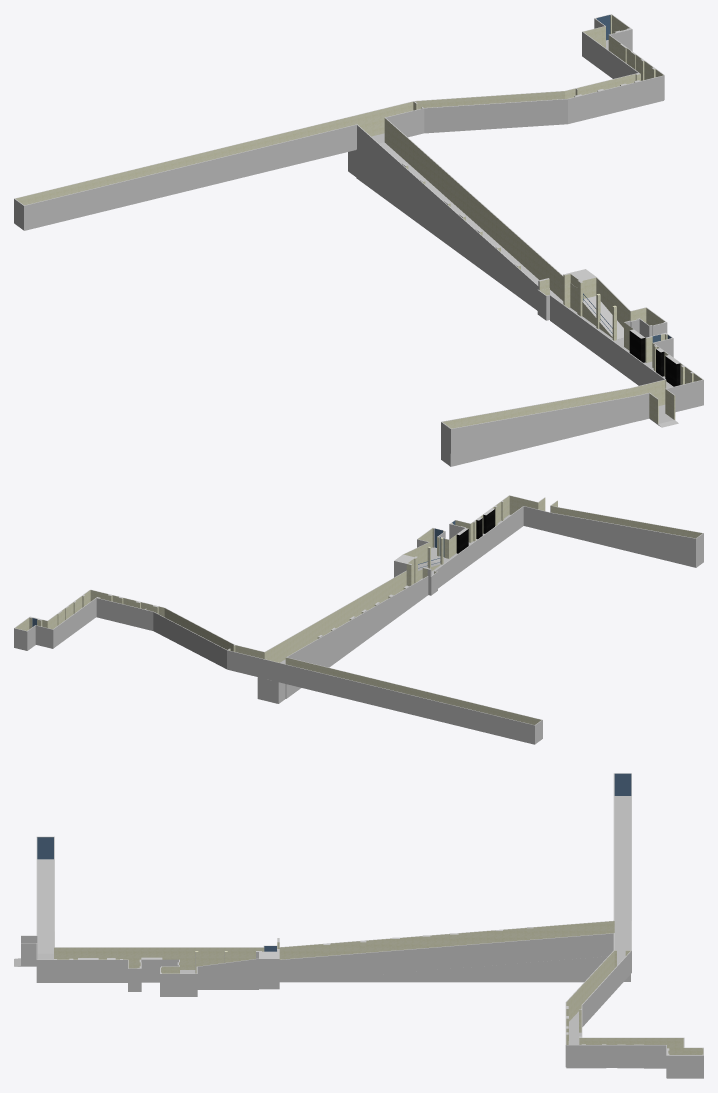
File: tunnels.dae
3 renders of one model, top to bottom at view 1: azimuth 30°, elevation 25°; view 2: azimuth 150°, elevation 25°; view 3: azimuth 270°, elevation 25°, orthographic. The views are drawn at different scales.
Visible parts, largest first — view 1: SketchUp (×8); view 2: SketchUp (×6); view 3: SketchUp (×7).
Boxes of the visible parts, x1,y1,x2,y2 form: SketchUp (×8): (14,14,703,466); SketchUp (×6): (14,495,703,744); SketchUp (×7): (14,773,703,1078).
Bounding box in the file's own units: 3196 × 3304 × 263.
